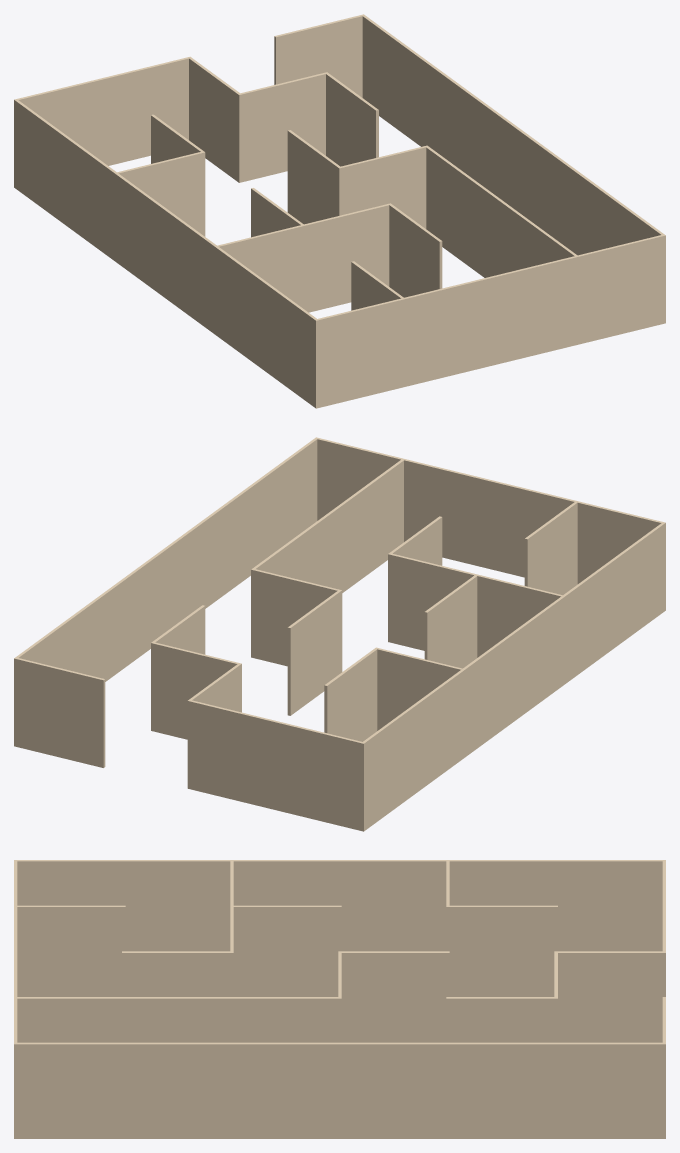
3 views of the same model, one above another, from view 1: azimuth 30°, elevation 25°; view 2: azimuth 150°, elevation 25°; view 3: azimuth 270°, elevation 25° (orthographic). The views are drawn at different scales.
Visible parts, largest first — view 1: group_0; view 2: group_0; view 3: group_0.
Boxes of the visible parts, x1,y1,x2,y2 form: group_0: [14, 14, 665, 408]; group_0: [14, 437, 665, 831]; group_0: [14, 860, 665, 1138].
Size of the model in its own units: 1.25 by 1.87 by 0.3.
